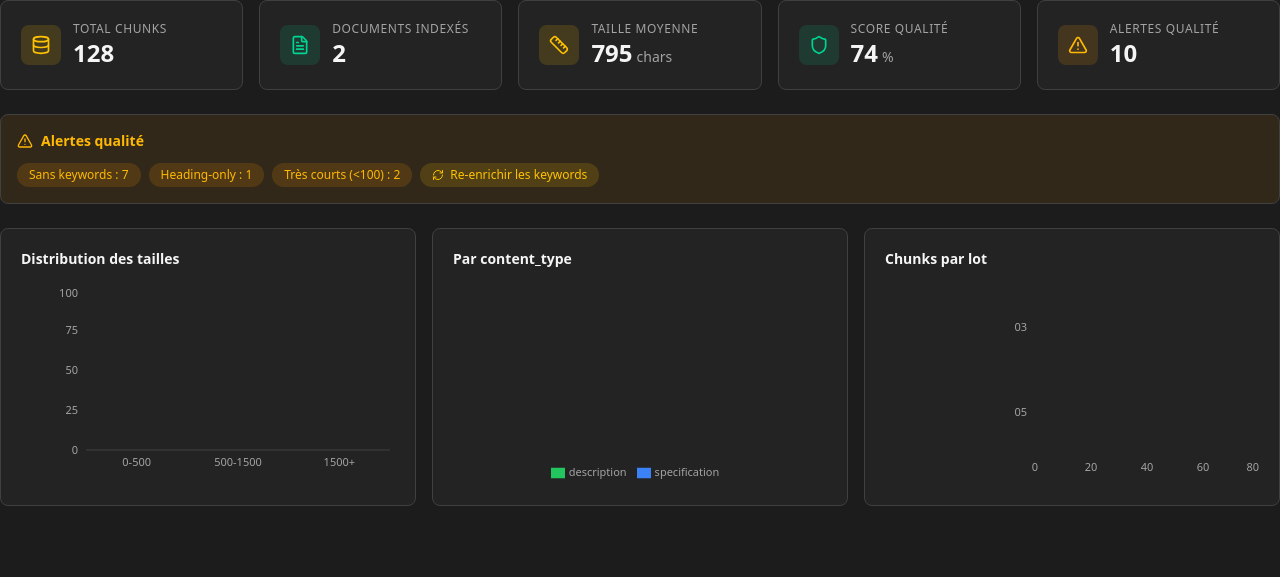
Test: StatsOverview — a failed load says so instead of rendering nothing › drops the previous success report when a second enrichment fails, instead of showing both
The width and height of the screenshot is (1280, 577).
Click the button "Re-enrichir les keywords". click: (510, 175)
box: 420,163 -> 599,187
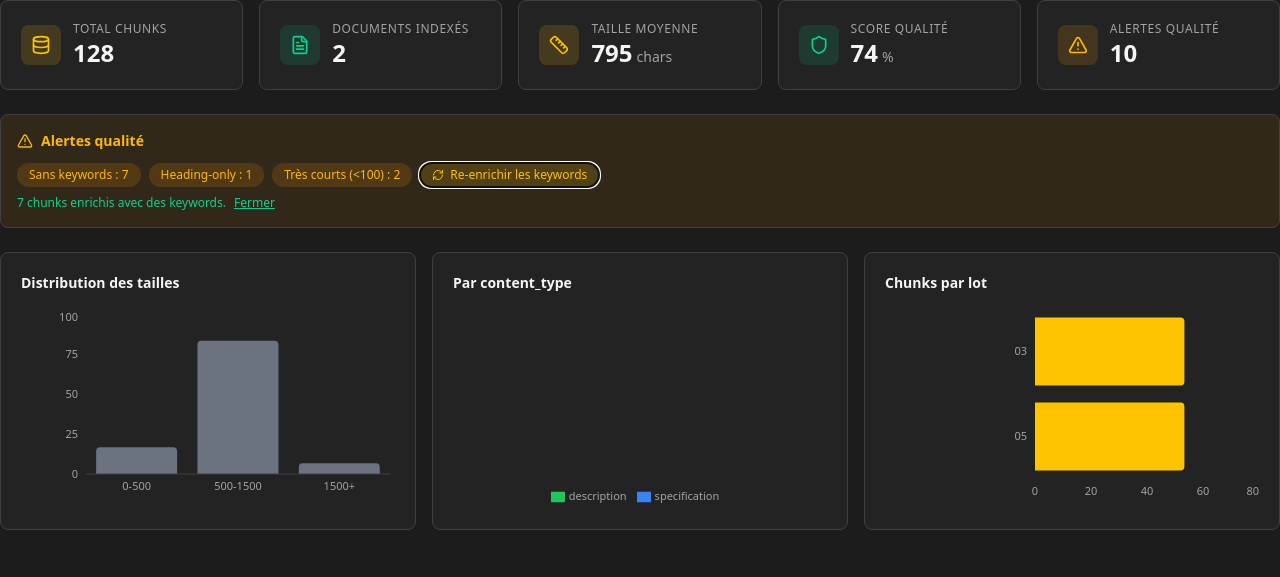
Expected: the text "7 chunks enrichis avec des keywords. Fermer" is shown, 17,194 -> 275,211
Click the button "Re-enrichir les keywords". click: (510, 175)
box: 420,163 -> 599,187
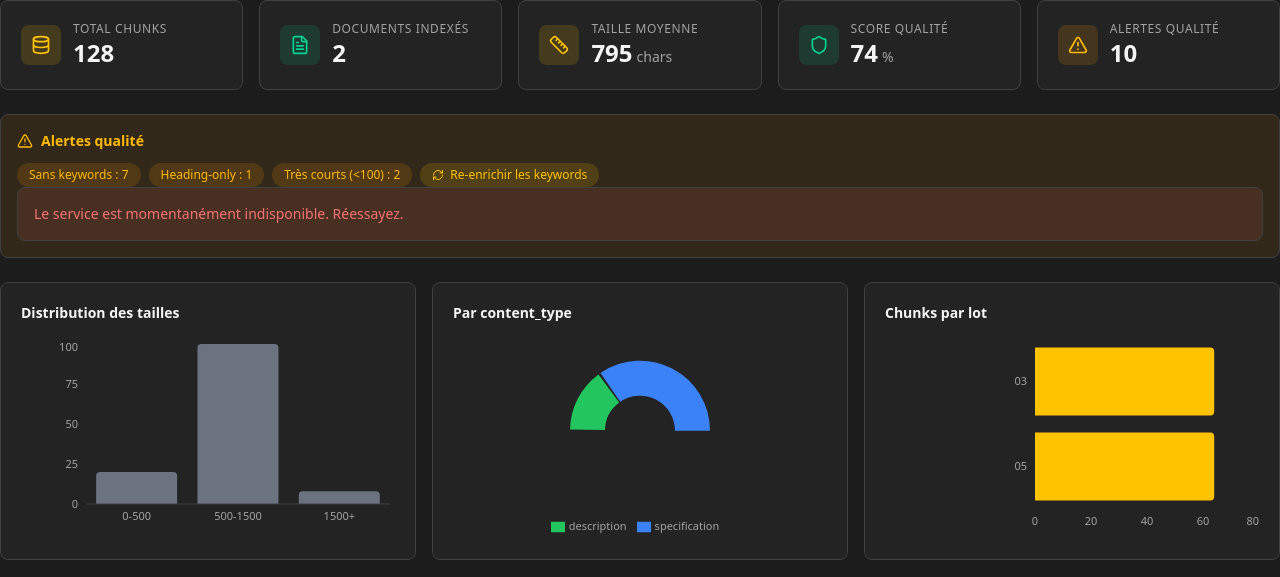
Expected: the message "Le service est momentanément indisponible. Réessayez." is shown, 17,187 -> 1263,241
Expected: the text "7 chunks enrichis avec des keywords" is gone
